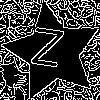Z: (28, 27, 65, 77)
